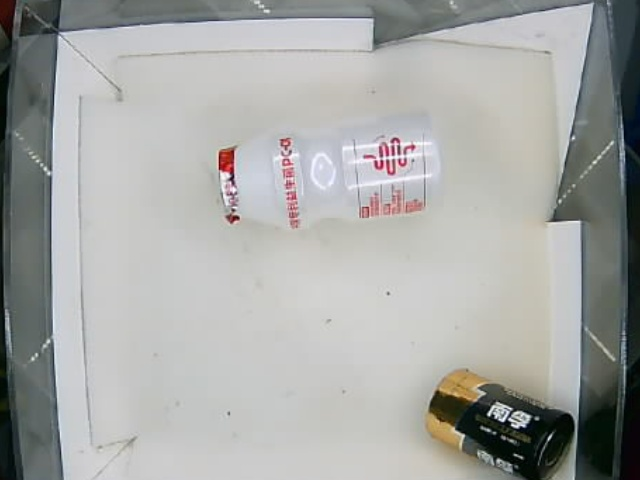Battery: (423, 365, 572, 480)
Bottle: (217, 108, 441, 233)
